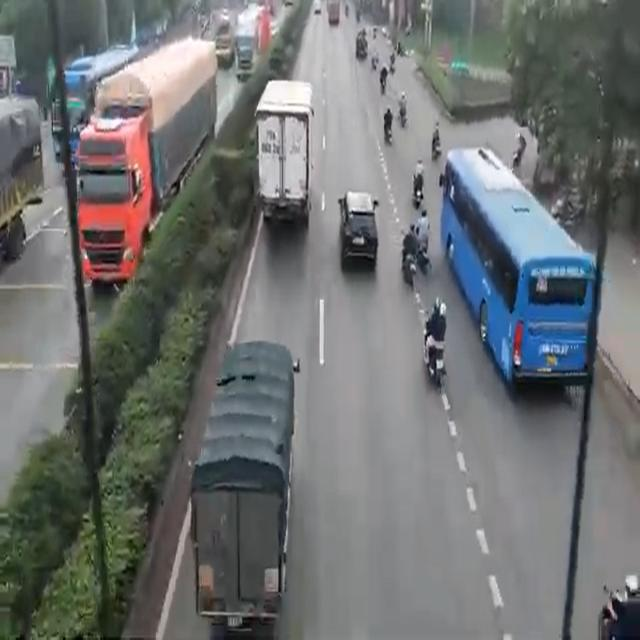bus: (442, 149, 595, 395)
car: (342, 186, 374, 278)
motor: (420, 305, 446, 382), (412, 210, 432, 270), (403, 228, 417, 295), (411, 159, 424, 200), (430, 123, 443, 164)
truck: (82, 37, 214, 296), (194, 342, 290, 632), (254, 70, 310, 232)
